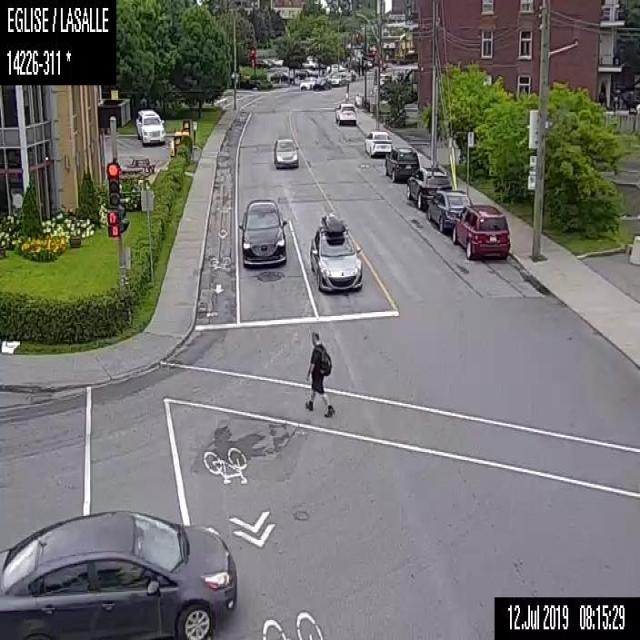pedestrian: (304, 328, 336, 416)
vehicle: (0, 506, 237, 638), (308, 208, 364, 293), (239, 196, 288, 268), (451, 203, 510, 260), (405, 163, 452, 210), (425, 188, 471, 232), (383, 144, 420, 182), (134, 108, 165, 146), (271, 134, 298, 170), (363, 129, 391, 158), (333, 100, 357, 125), (329, 70, 349, 85), (312, 75, 330, 89), (269, 69, 288, 81), (298, 77, 317, 89), (254, 55, 270, 68)
